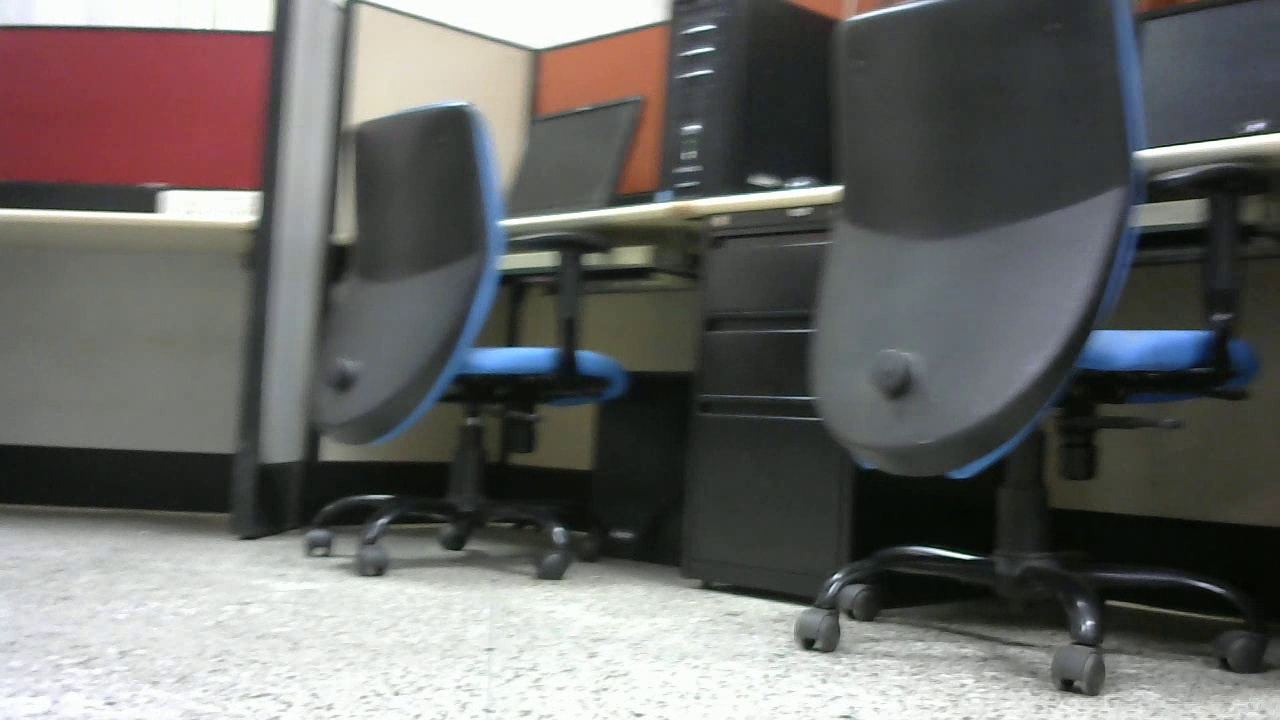chair: (789, 1, 1255, 704)
